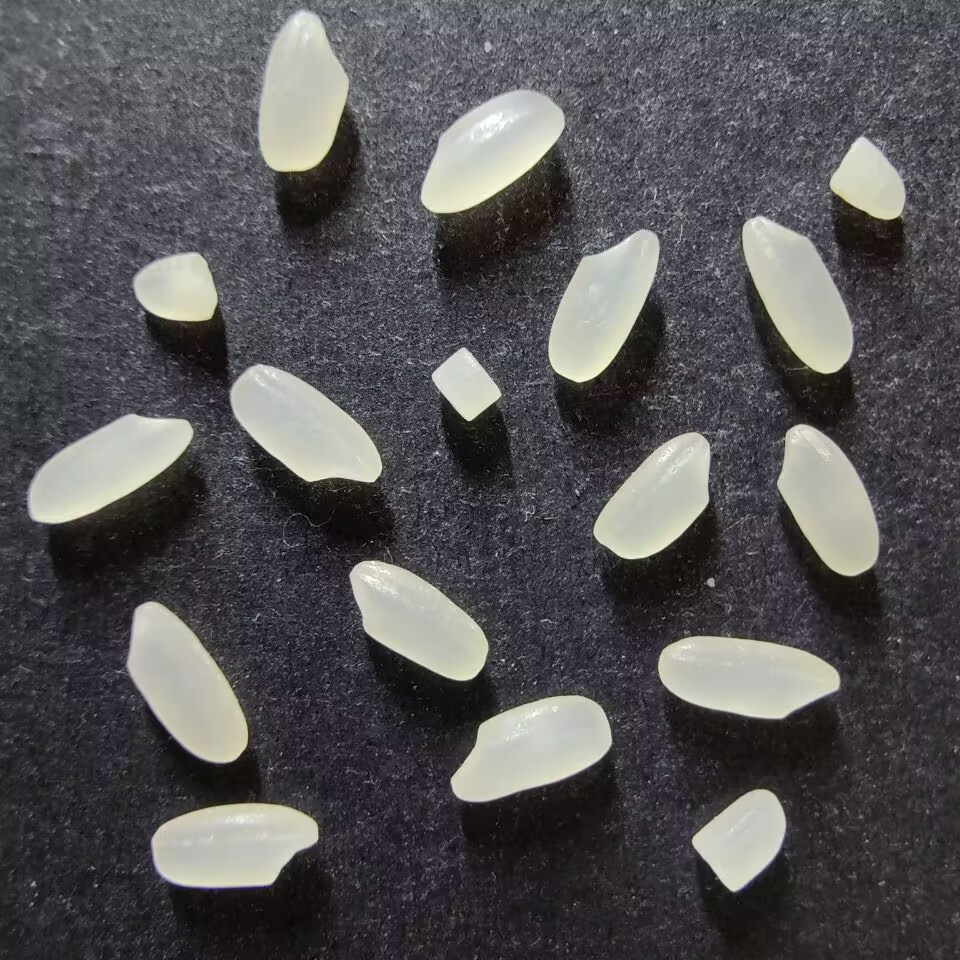broken: (690, 788, 786, 893), (828, 136, 906, 220), (132, 252, 217, 321), (430, 347, 502, 422)
rice: (125, 600, 249, 764), (26, 412, 193, 524), (229, 364, 383, 483), (419, 89, 565, 213), (741, 215, 854, 374), (449, 694, 612, 803), (547, 228, 659, 382), (348, 559, 488, 681), (776, 423, 880, 576), (657, 635, 840, 719), (591, 432, 711, 560), (257, 10, 349, 172), (150, 803, 319, 888)
